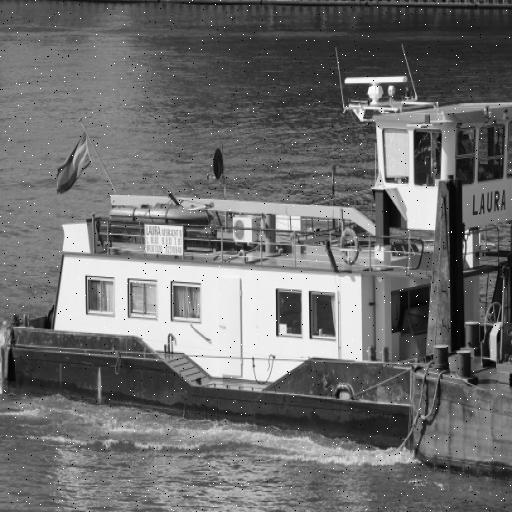tugboat: (1, 42, 512, 465)
